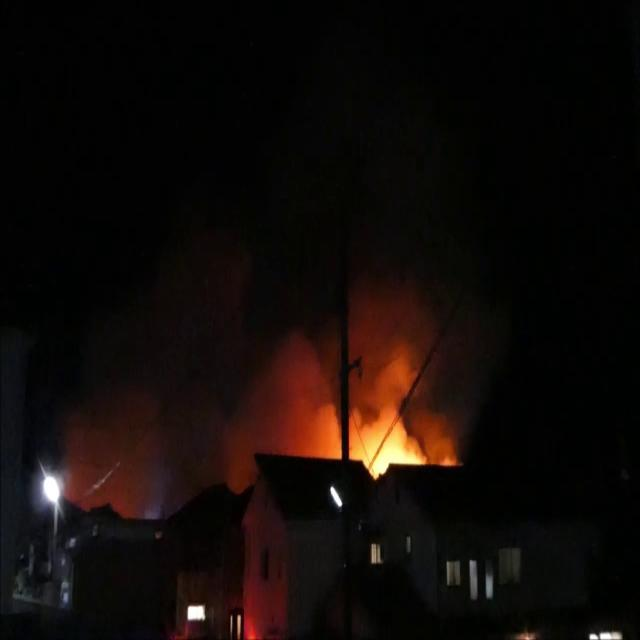Smoke: (222, 270, 459, 466)
